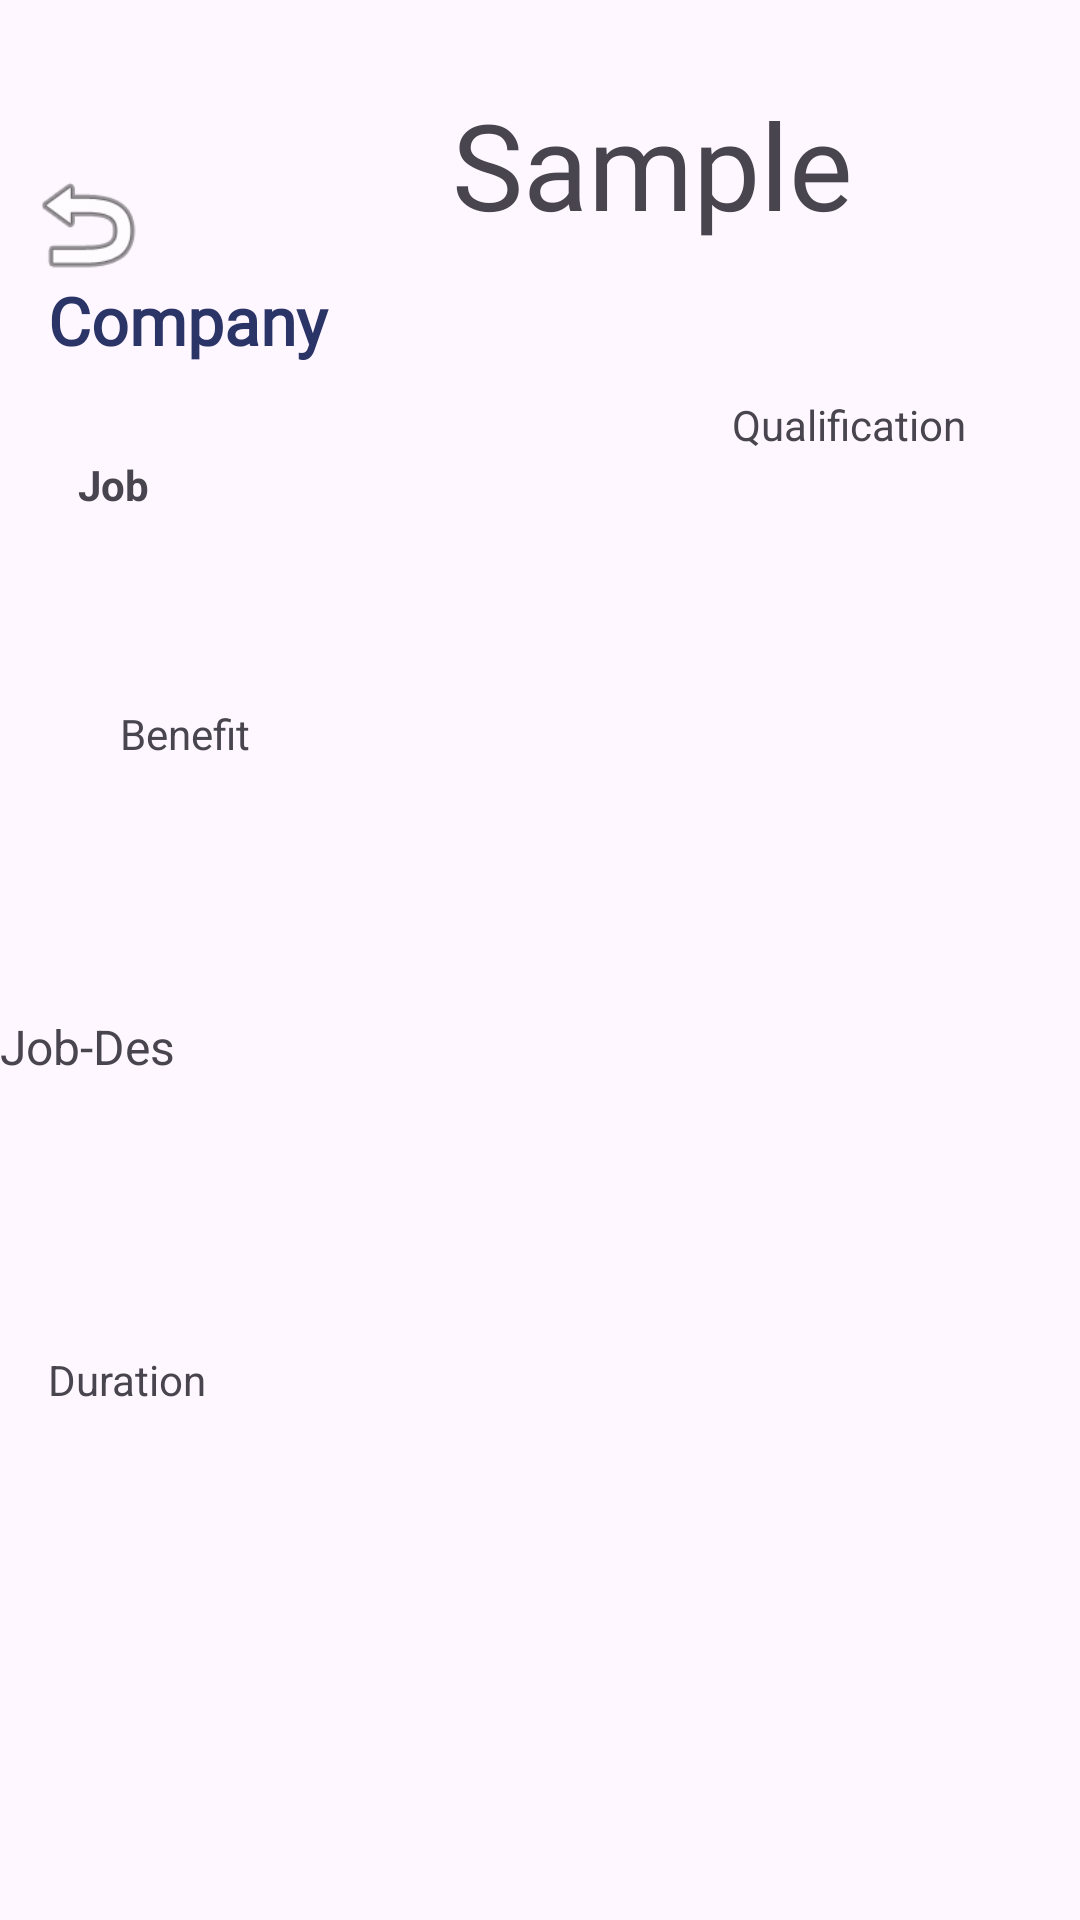

Locate icon controls on the screen. Image size 1080x1920, boxes as detection(x1, y1, x2, y2).
revert: detection(42, 183, 135, 268)
